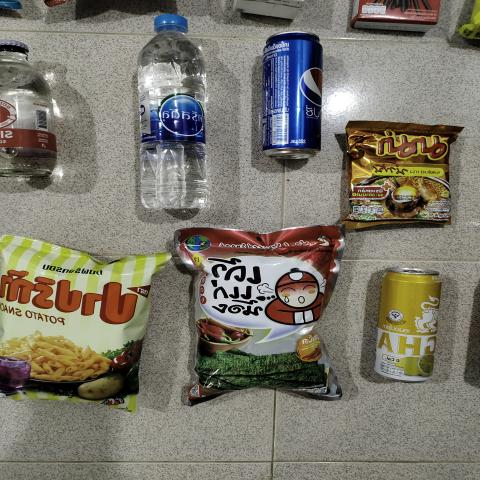crystal: (126, 16, 210, 218)
mama: (348, 128, 451, 221)
paprika: (0, 254, 153, 402)
pepsi_blue: (262, 31, 323, 158)
singha_soda: (370, 269, 439, 378)
taokaenoi: (184, 228, 338, 395)
